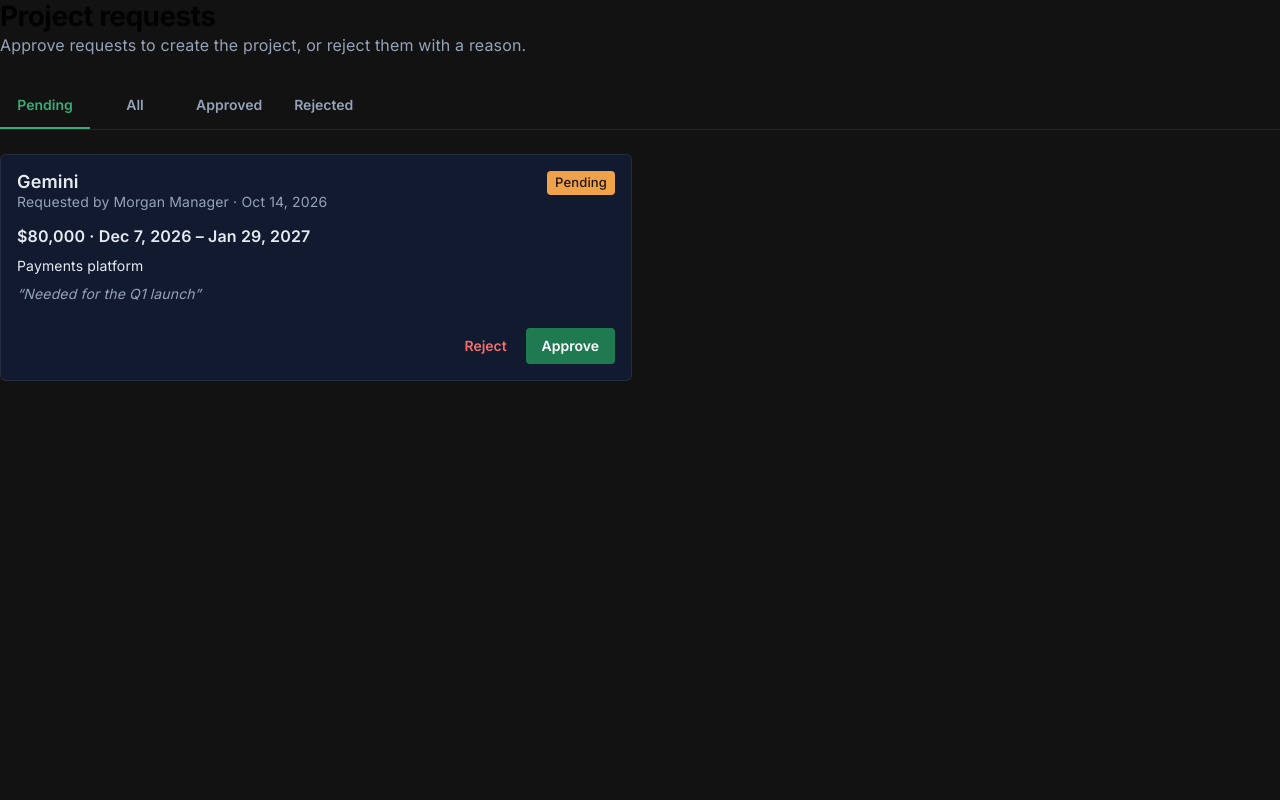
Test: RequestsPage as an admin › approves with an adjusted budget, sending only what changed
This screenshot has width=1280, height=800.
Click the button "Approve". click: (570, 346)
box: [526,328,615,364]
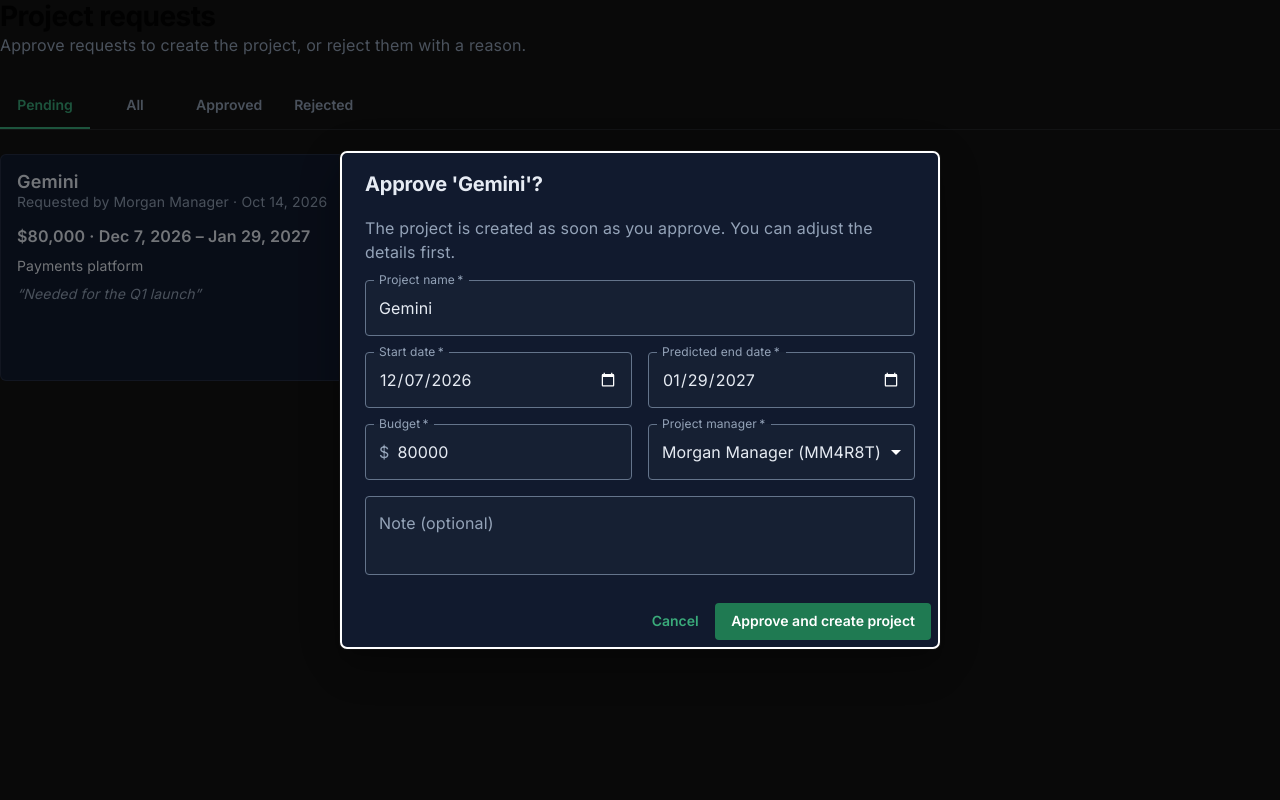
Replace the text in the number field labelled "Budget *" with "60000". click: (515, 452)
box: [397,424,632,480]
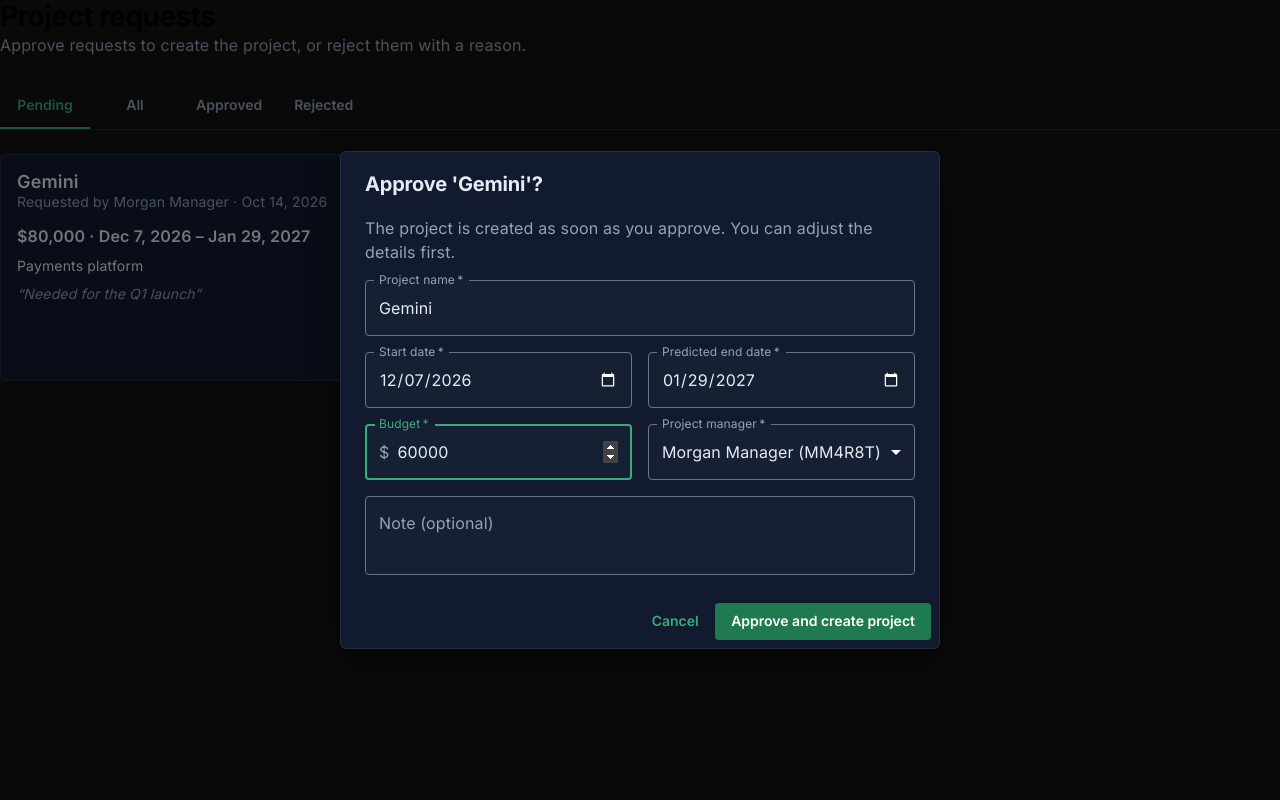
Click the button "Approve and create project". click: (823, 622)
box: [715,603,931,640]
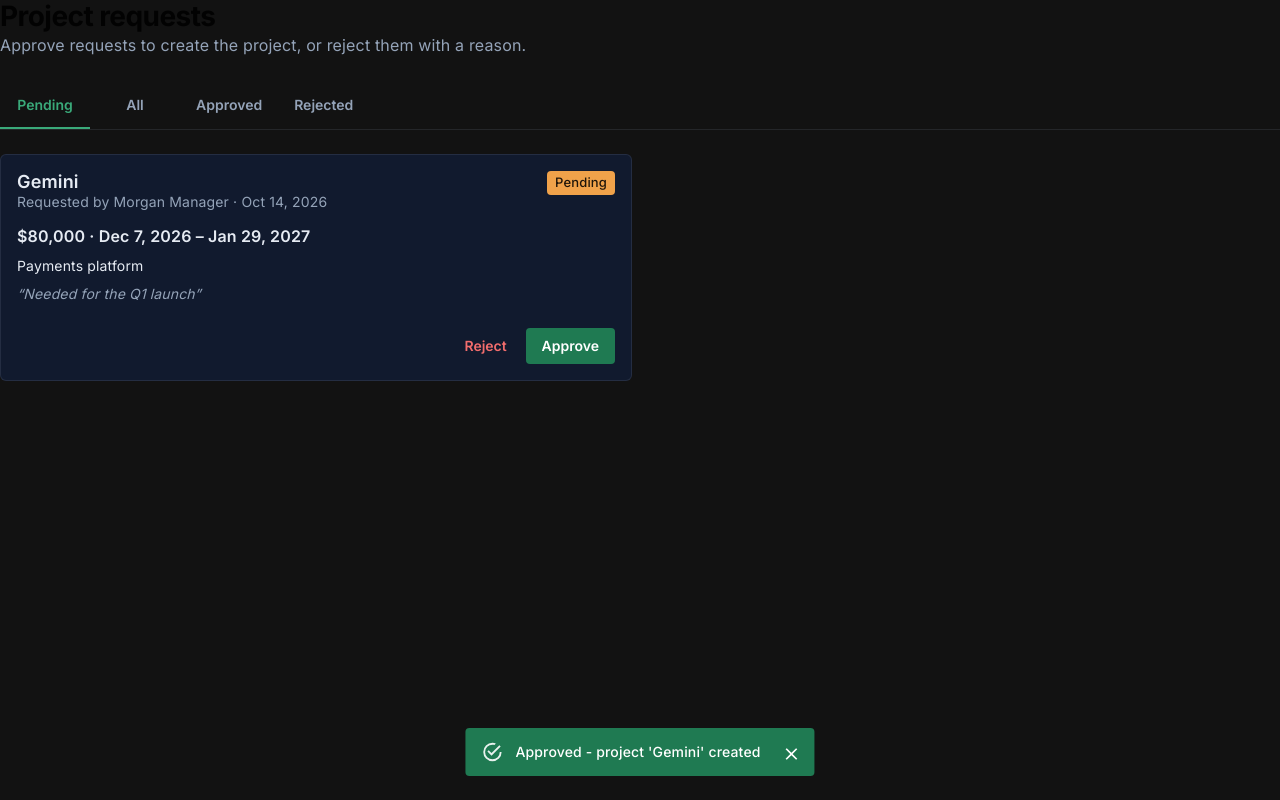
Now the text "Approved - project 'Gemini' created" is shown, box [515,743,760,760]
